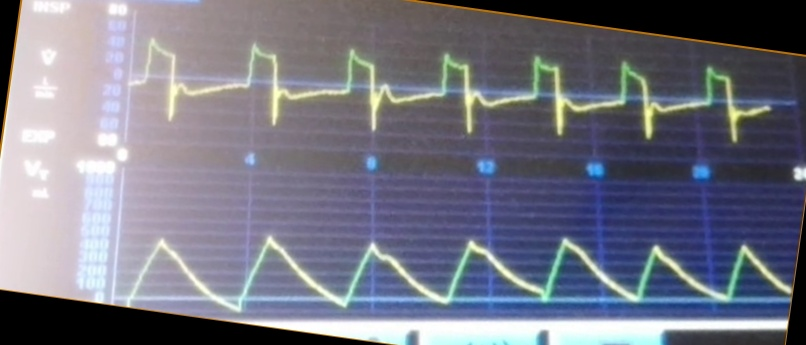Premature_cycling Flow: (134, 34, 774, 145)
Premature_cycling Volume: (124, 228, 789, 312)
